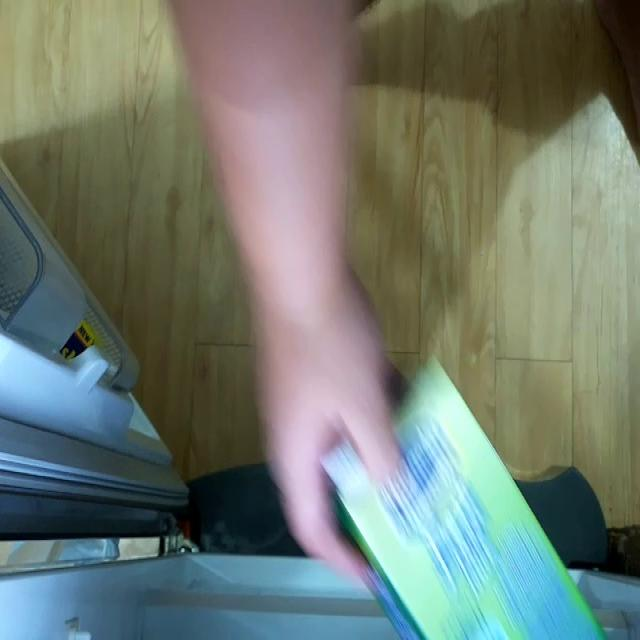milk: (327, 358, 603, 640)
